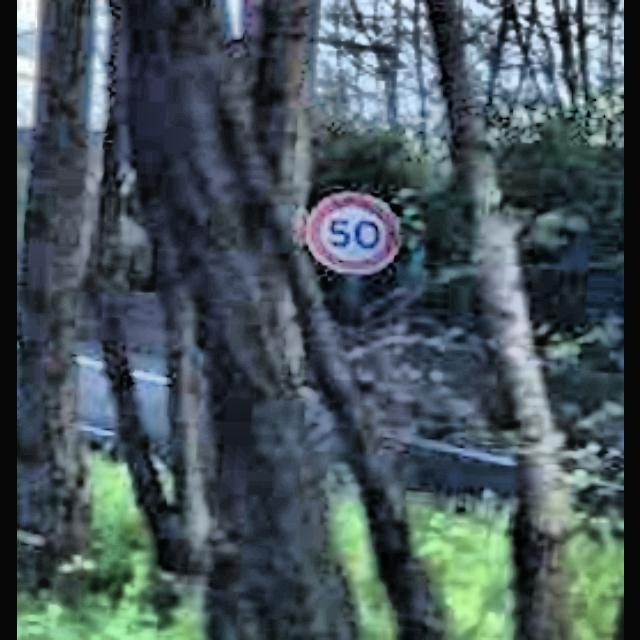speed_50: (309, 190, 396, 272)
